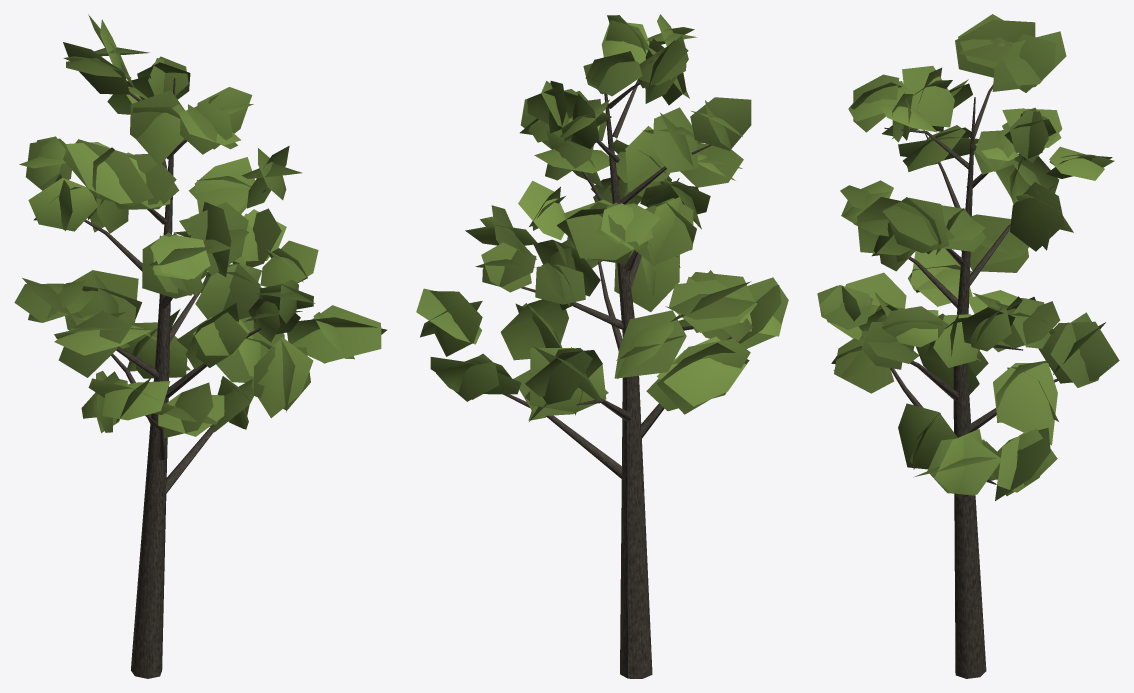
The model's file is open_04_lod2.glb.
3 views of the same model, side by side, from view 1: azimuth 30°, elevation 25°; view 2: azimuth 150°, elevation 25°; view 3: azimuth 270°, elevation 25° (orthographic). The views are drawn at different scales.
Parts seen in each view (by area): view 1: individual_curved_leaf_sprigs, retained_branches_0; view 2: individual_curved_leaf_sprigs, retained_branches_0; view 3: individual_curved_leaf_sprigs, retained_branches_0.
Part boxes in pixels (left/top/right/bottom): individual_curved_leaf_sprigs: left=14, top=14, right=386, bottom=438; retained_branches_0: left=84, top=78, right=281, bottom=678; individual_curved_leaf_sprigs: left=416, top=14, right=788, bottom=421; retained_branches_0: left=503, top=79, right=731, bottom=678; individual_curved_leaf_sprigs: left=817, top=14, right=1119, bottom=500; retained_branches_0: left=884, top=84, right=1058, bottom=678.
Bounding box in the file's own units: 6.46 × 11.51 × 4.97.
2 materials, 1 textured.
